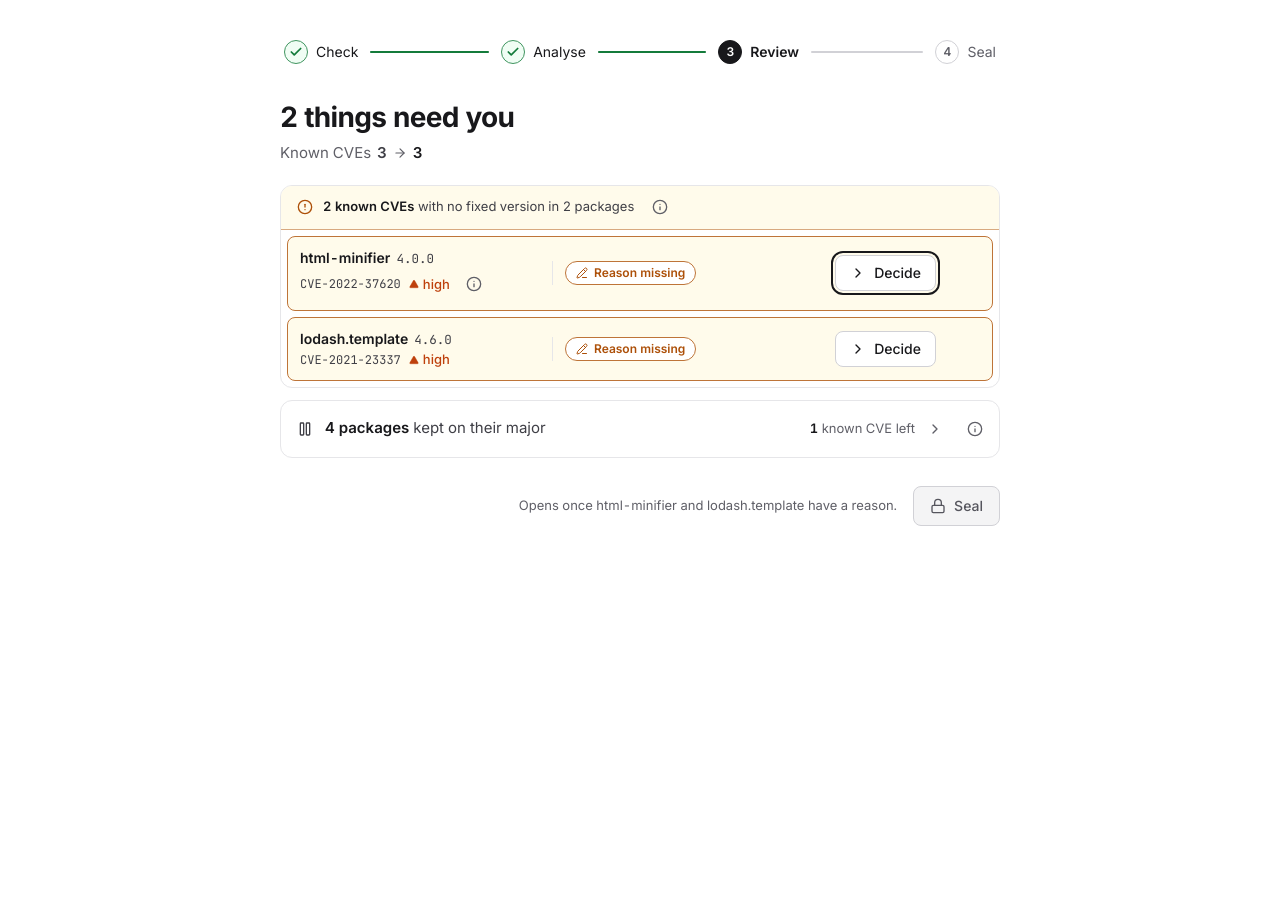
Scenario: the panels on the review › gives the focus back to the row
Click the button with aria-label "Decide html-minifier".
click(886, 273)  # box [835,255,936,291]
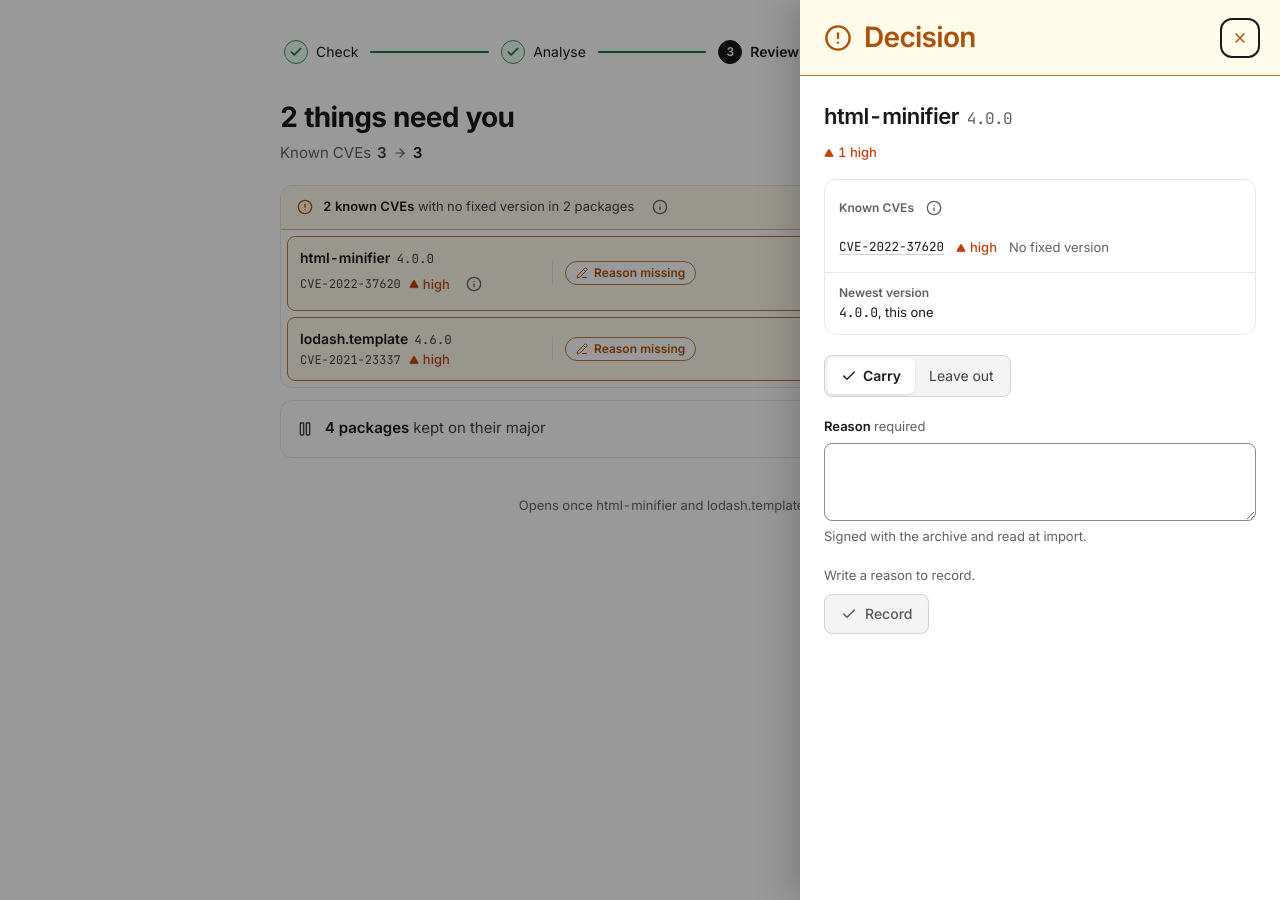
Expected: the dialog is shown, [800,0,1279,899]
Press Escape in the text box labelled "Reason required", box [824,442,1256,520]
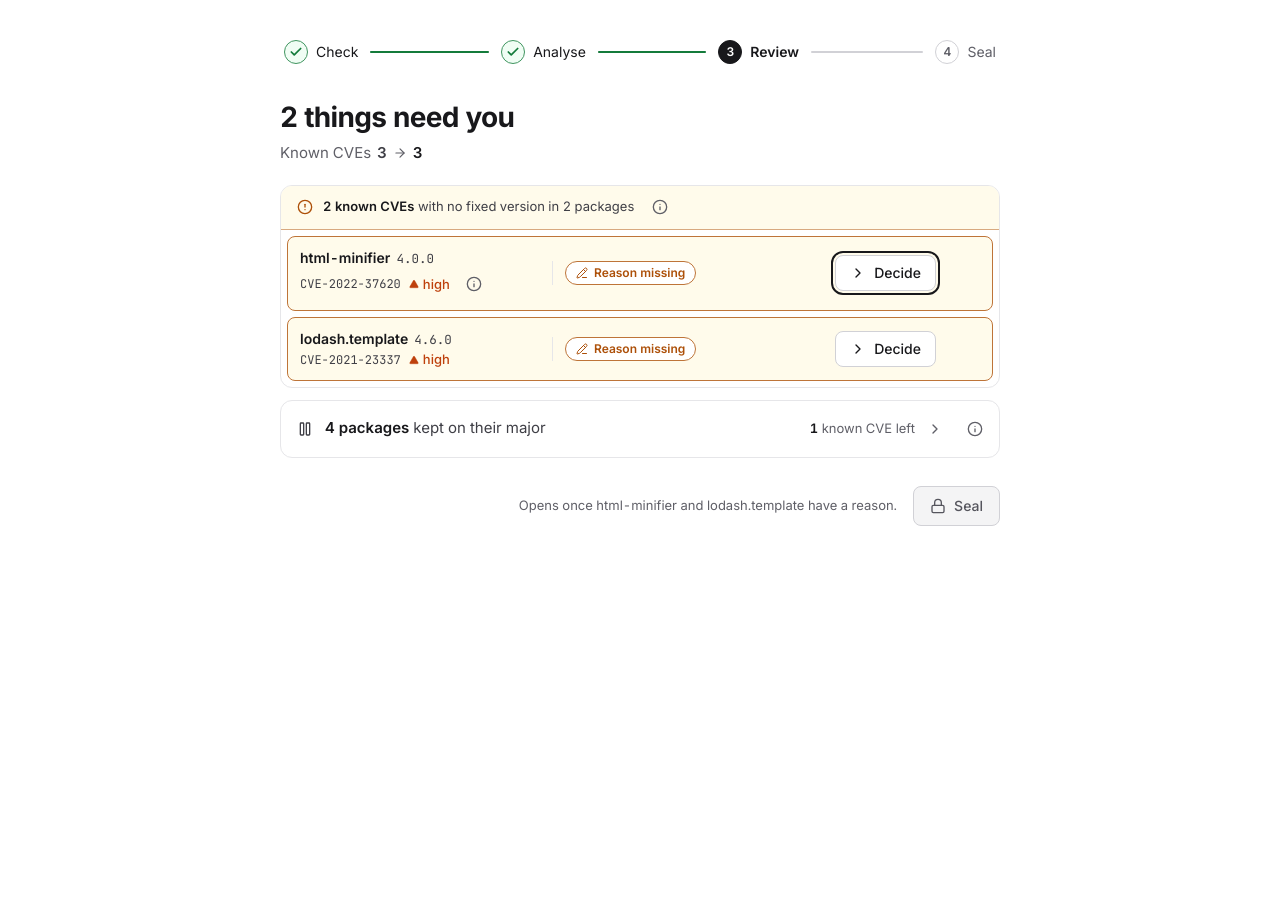
Expected: the dialog is gone
